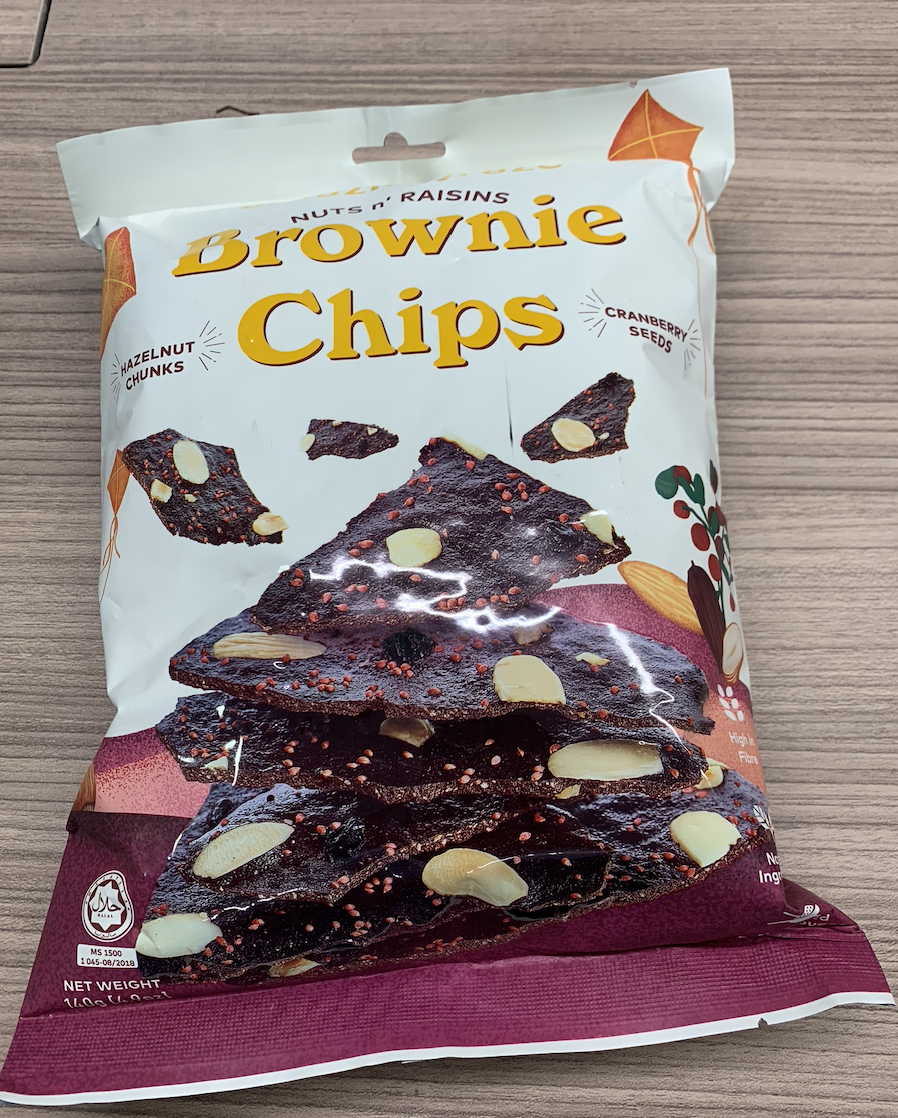crackers_100g-199g: (82, 186, 735, 997)
